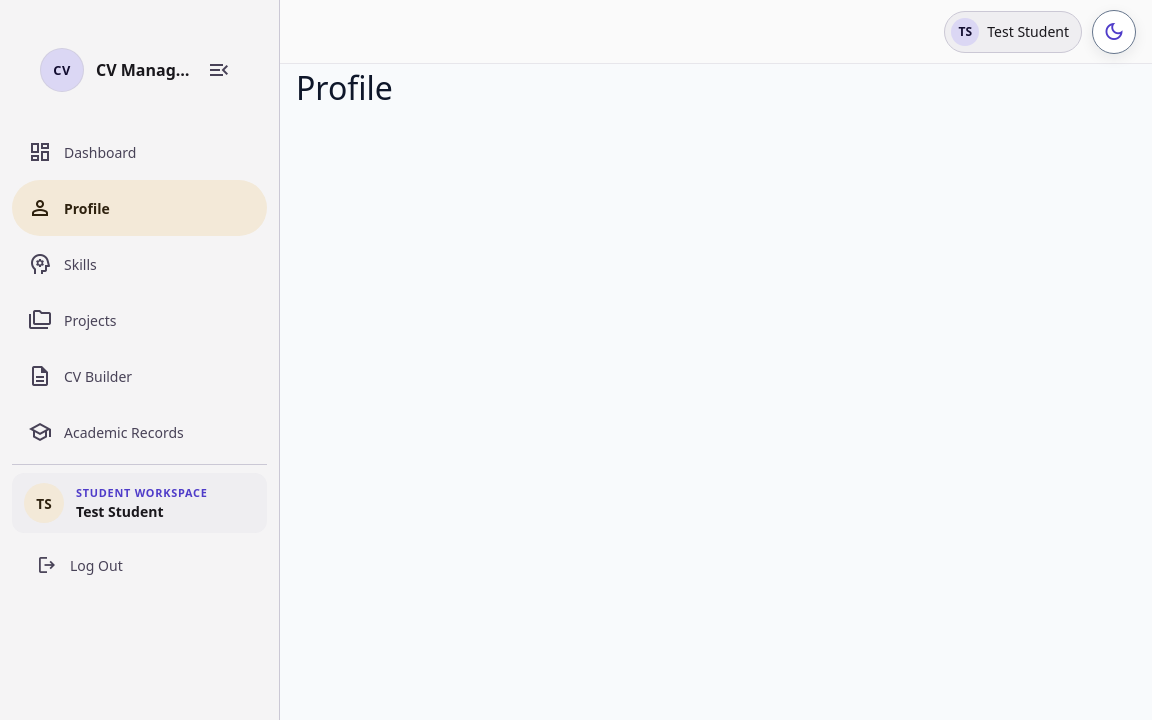
StudentLayout › preserves desktop drawer state while nested routes change
# Toggle collapse
Click the button named "Collapse navigation" at [219, 70], box [199,50,239,90]
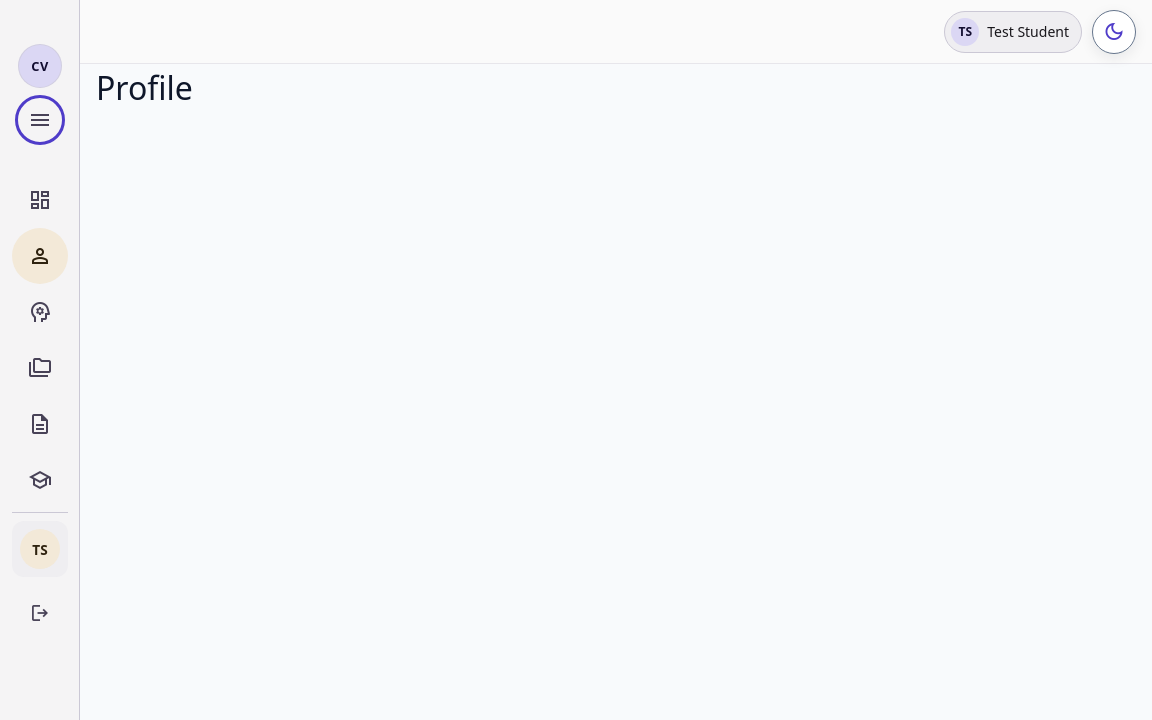
Expected: the element with class "m3-app-shell" has attribute data-drawer-expanded="false"
Click the link named "Dashboard" at [40, 200], box [28,186,52,214]
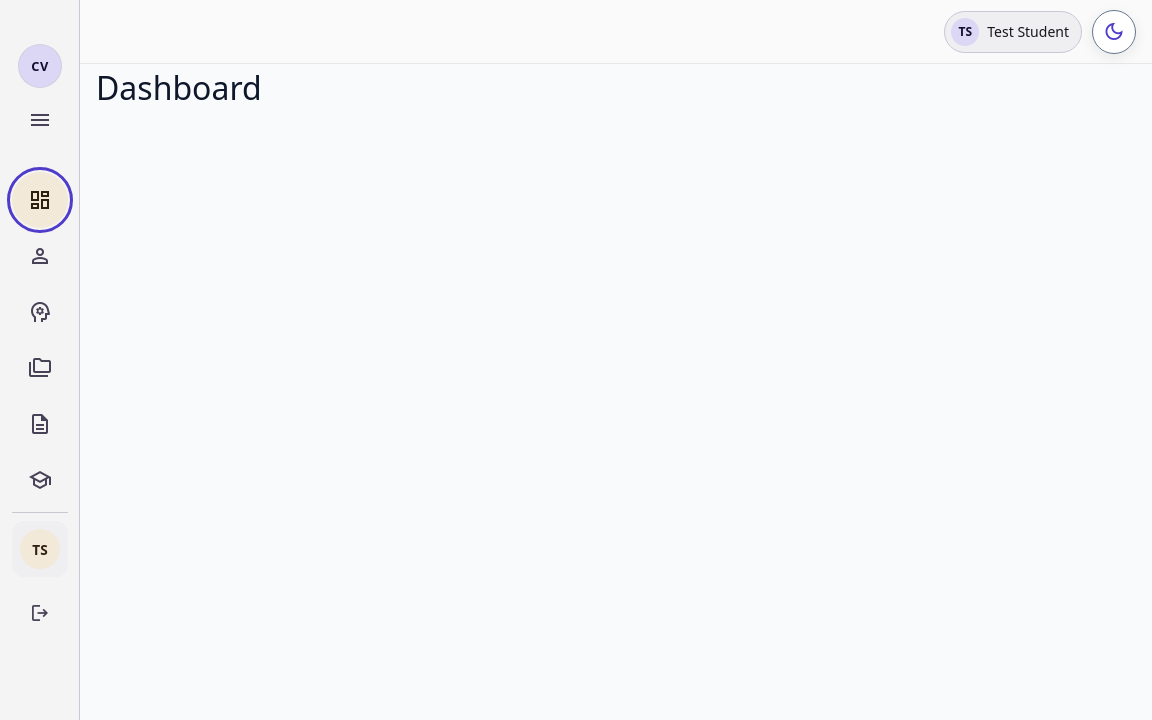
Expected: the button named "Expand navigation" is shown, [20,100,60,140]
Expected: the heading "Dashboard" is shown, [96,66,262,109]
